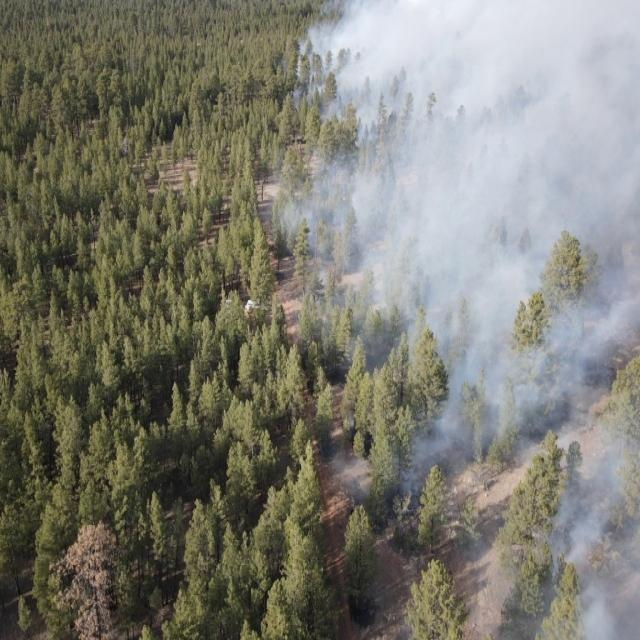smoke: (277, 0, 640, 469), (348, 466, 640, 640)
